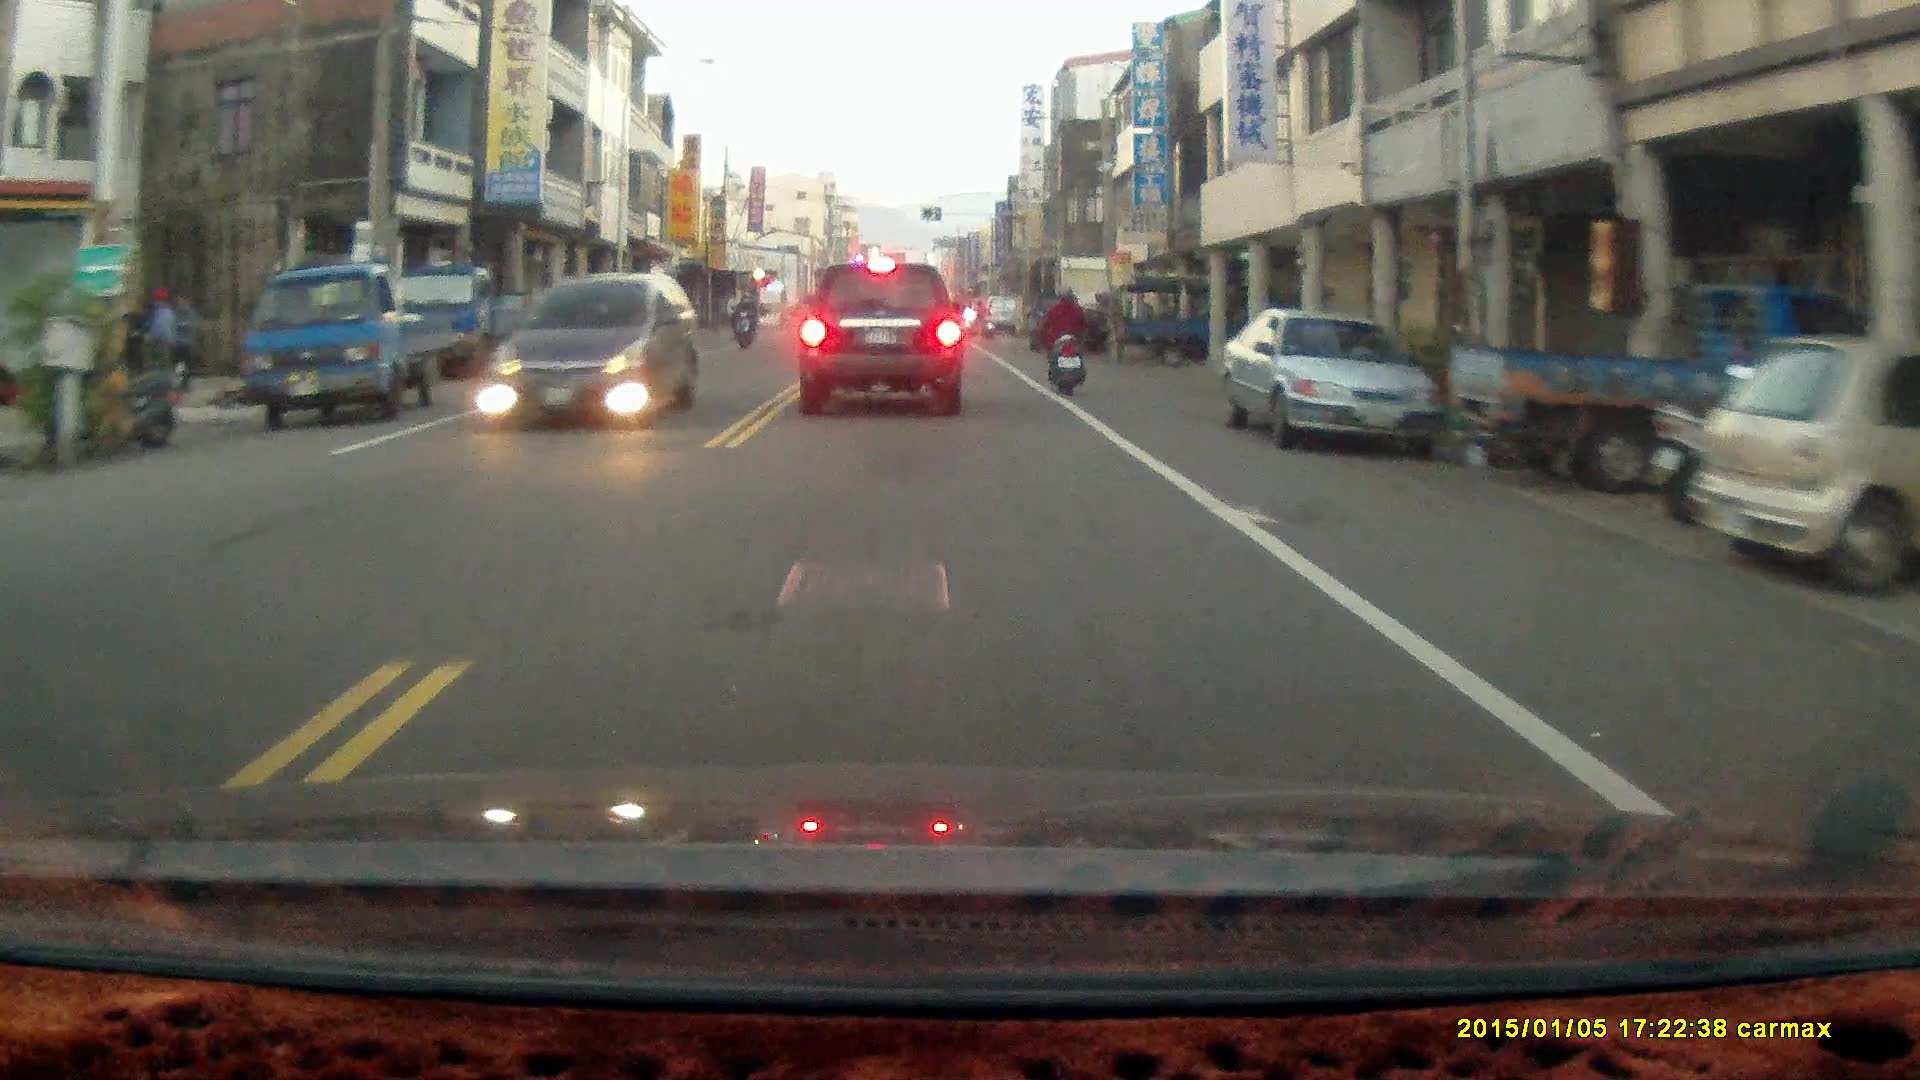pedestrian: (144, 286, 175, 396), (172, 290, 203, 392), (117, 297, 146, 391)
rider: (1040, 282, 1086, 395), (729, 294, 757, 350), (963, 297, 997, 340)
vehicle: (1434, 275, 1836, 495), (1684, 331, 1920, 594), (241, 262, 464, 432), (491, 274, 700, 432), (1221, 311, 1441, 454), (794, 259, 966, 423), (390, 254, 547, 373), (1119, 274, 1292, 365)
